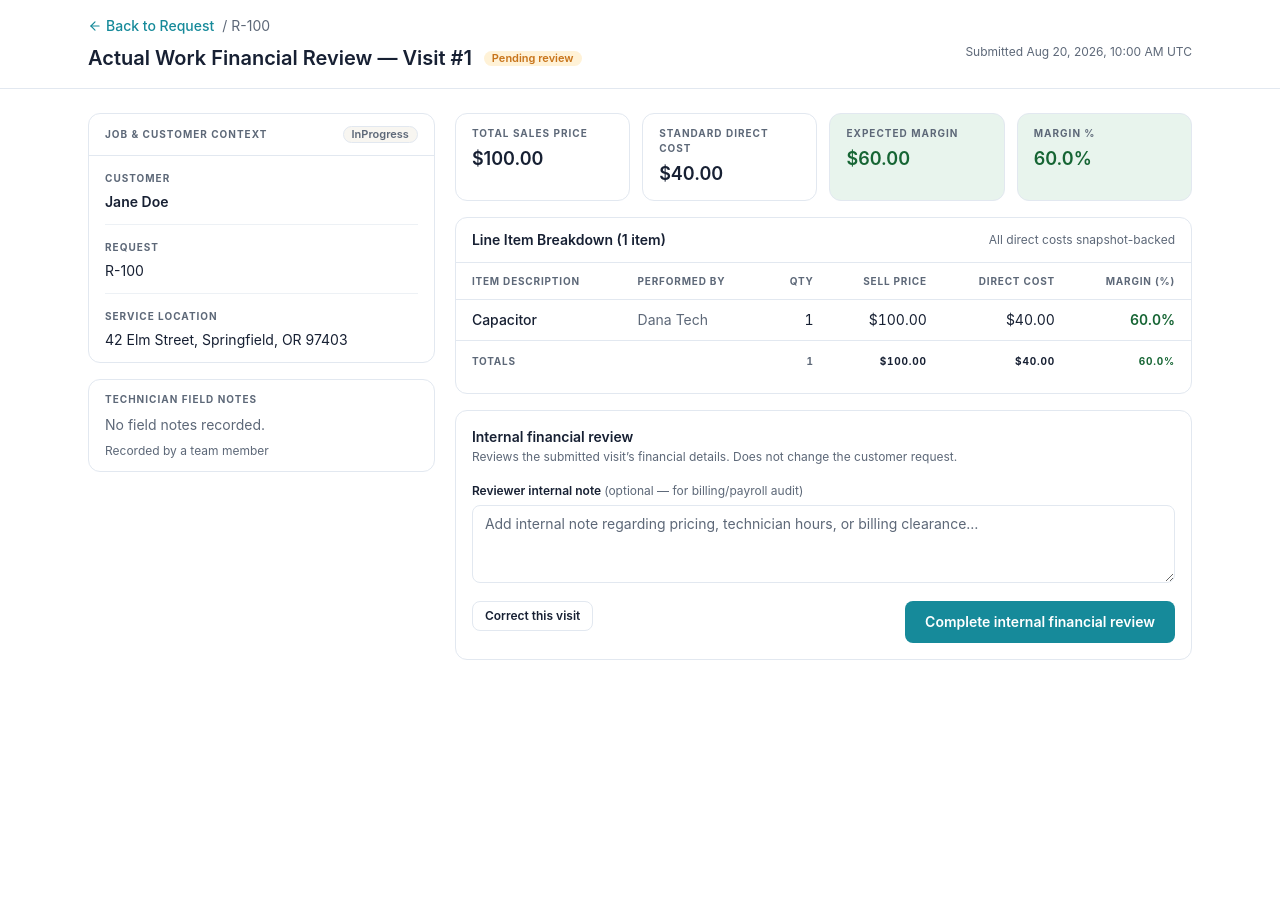
Scenario: ActualWorkFinancialReviewWorkspace — BL138 Slice 2 › keeps editing when the discard confirm is dismissed
The image size is (1280, 900).
Type "wip" into the text box labelled "Reviewer internal note".
click(823, 544); type("wip")  # box [472,505,1175,583]
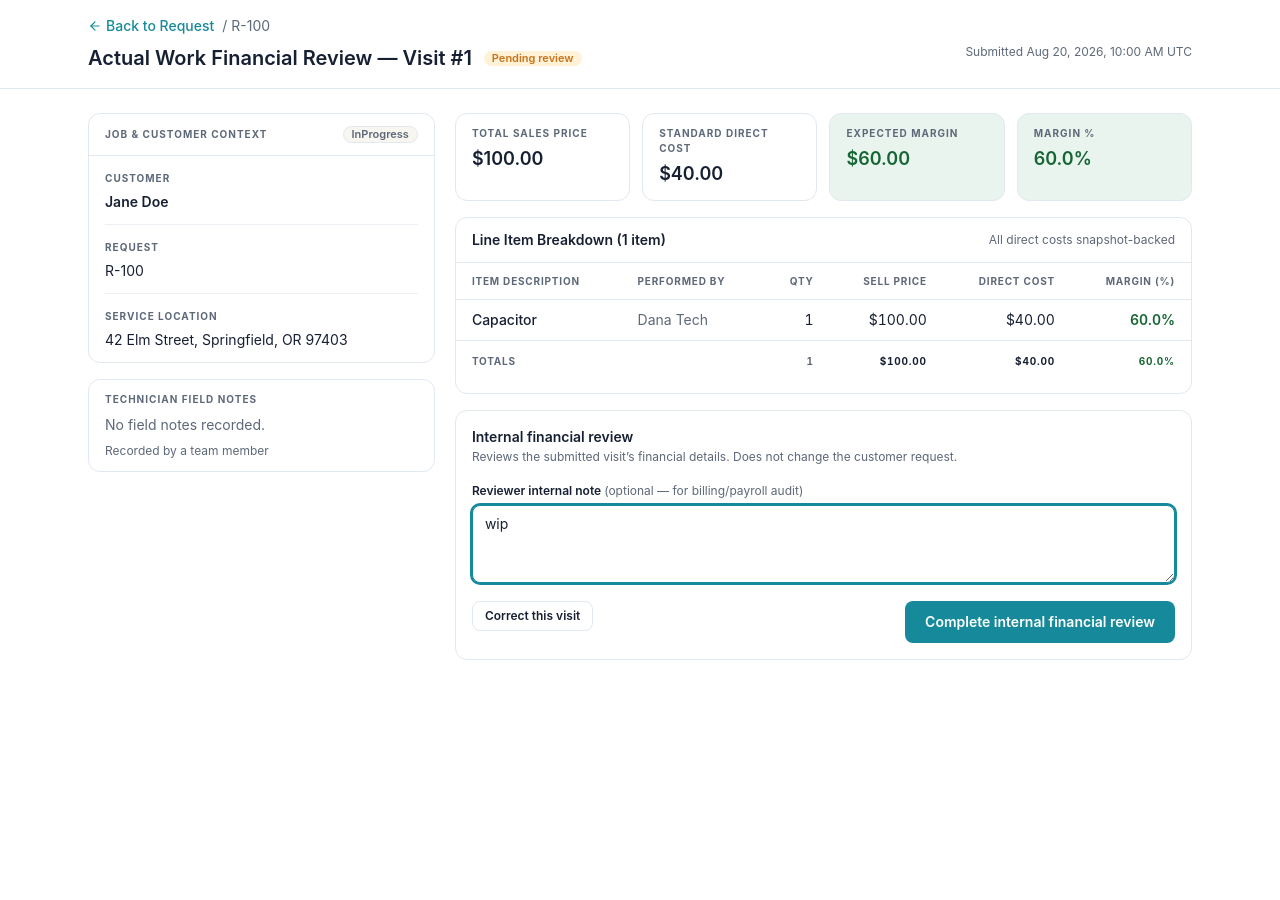
Click the button "Back to Request".
click(151, 26)  # box [88,16,214,36]
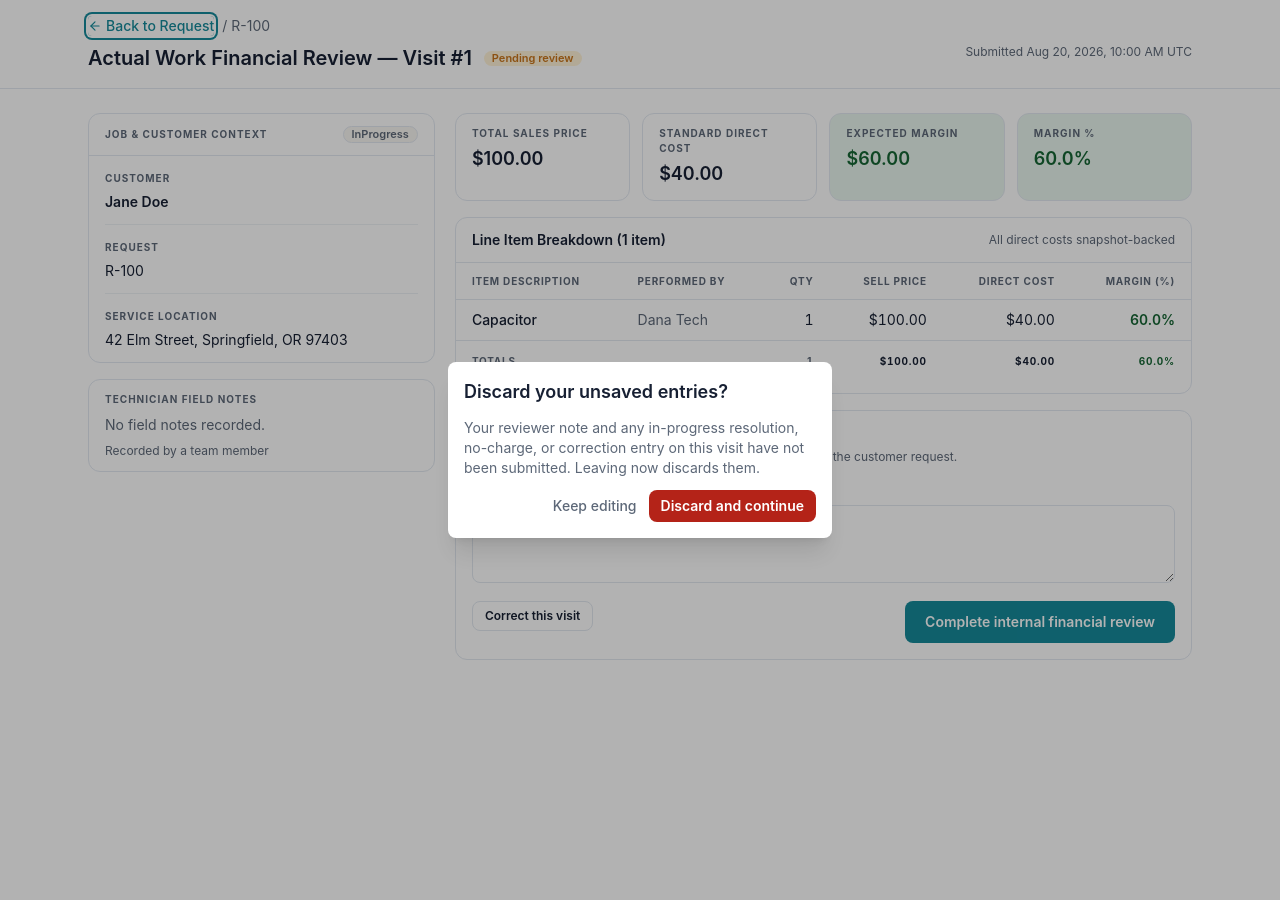
Click the button "Keep editing".
click(595, 506)  # box [553,496,636,516]
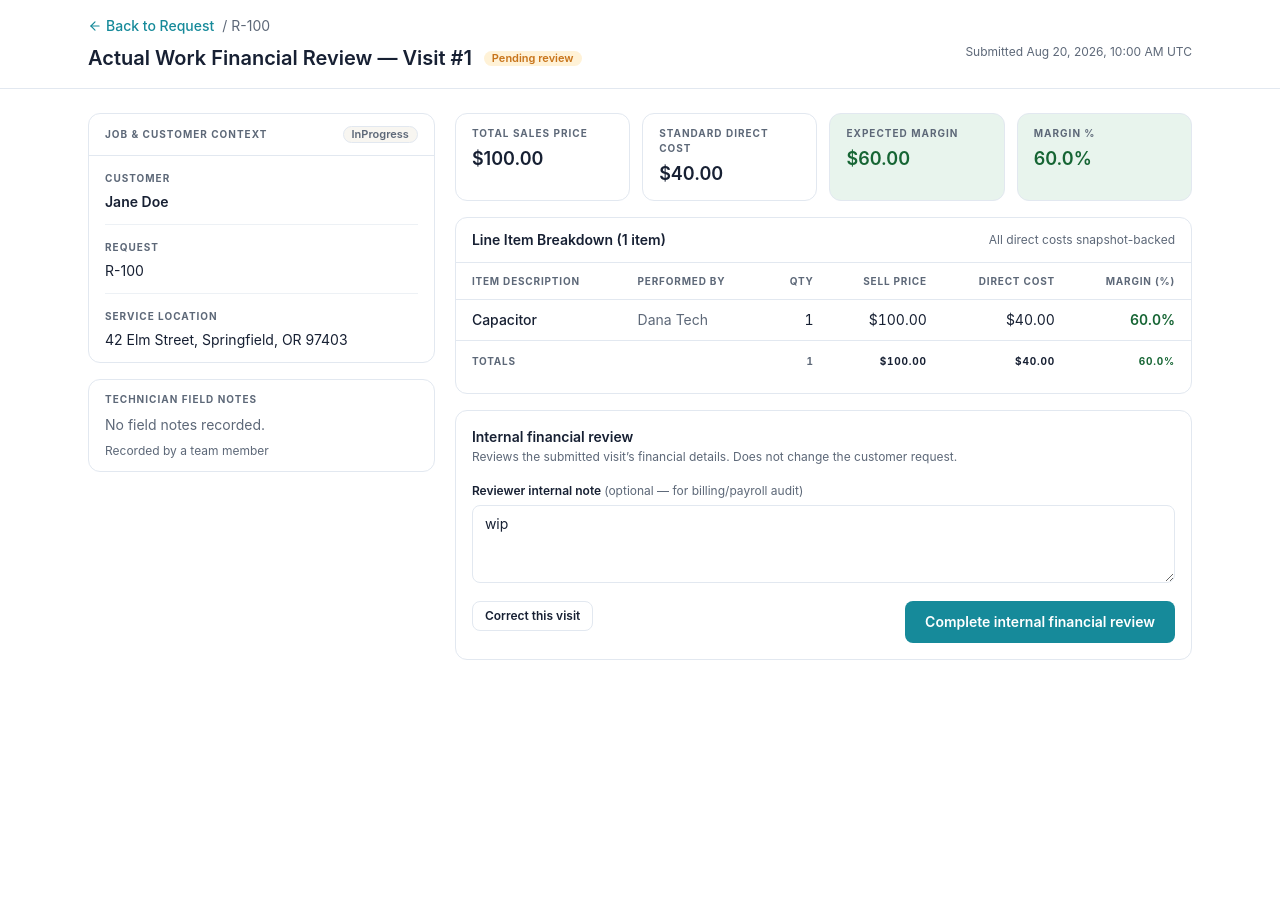
expect the dialog is gone: met
